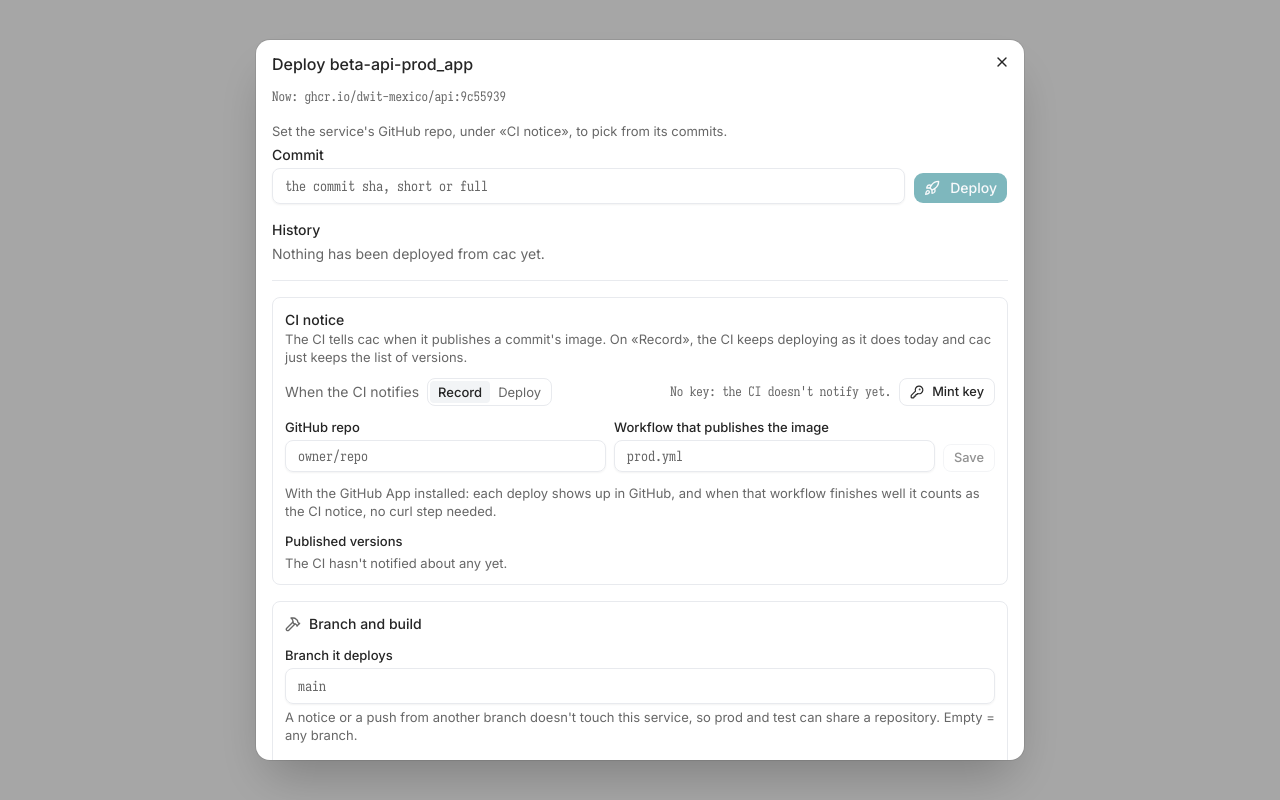
it: sin ir a GitHub › si el servicio corre con un tag corto, el paso del workflow manda el sha corto
Click the button "Mint key": (947, 392) x1=899 y1=378 x2=995 y2=406
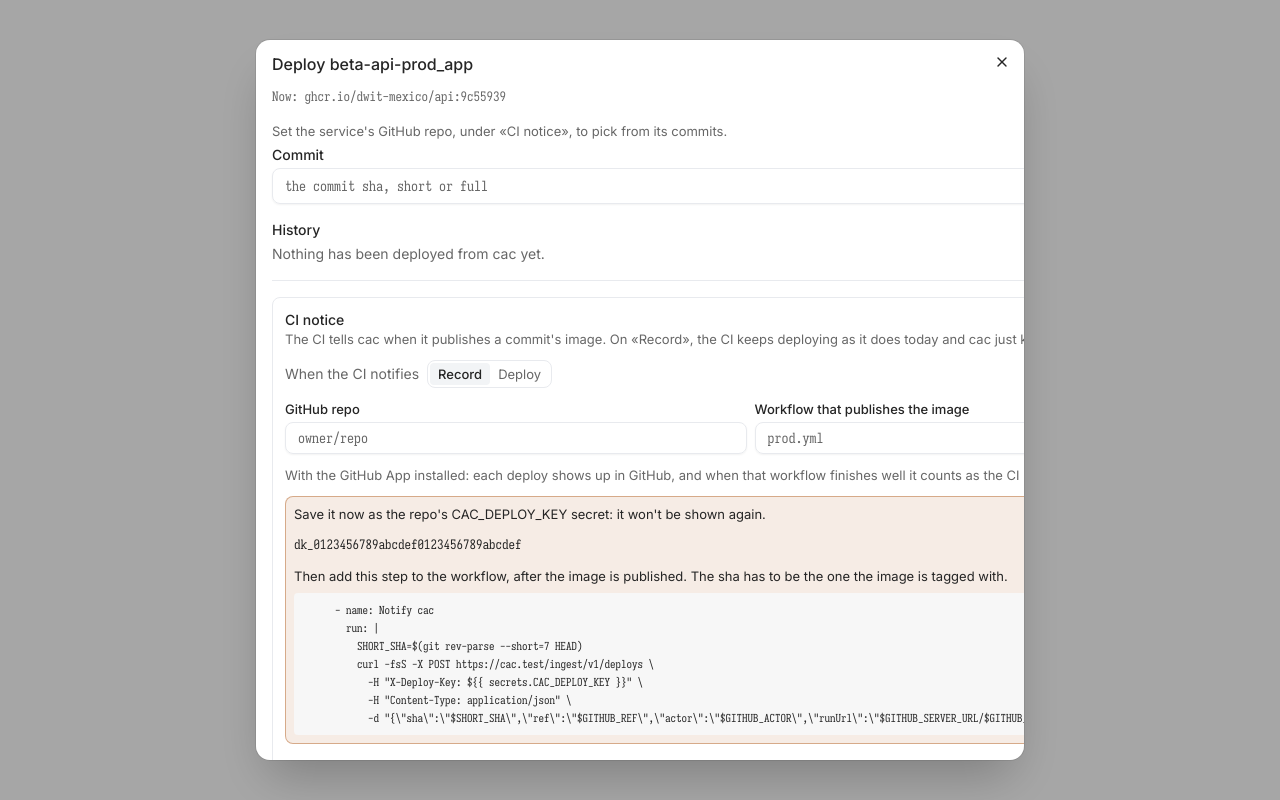
Check: the text "X-Deploy-Key" shows "git rev-parse --short=7 HEAD", box x1=302 y1=603 x2=1024 y2=725
